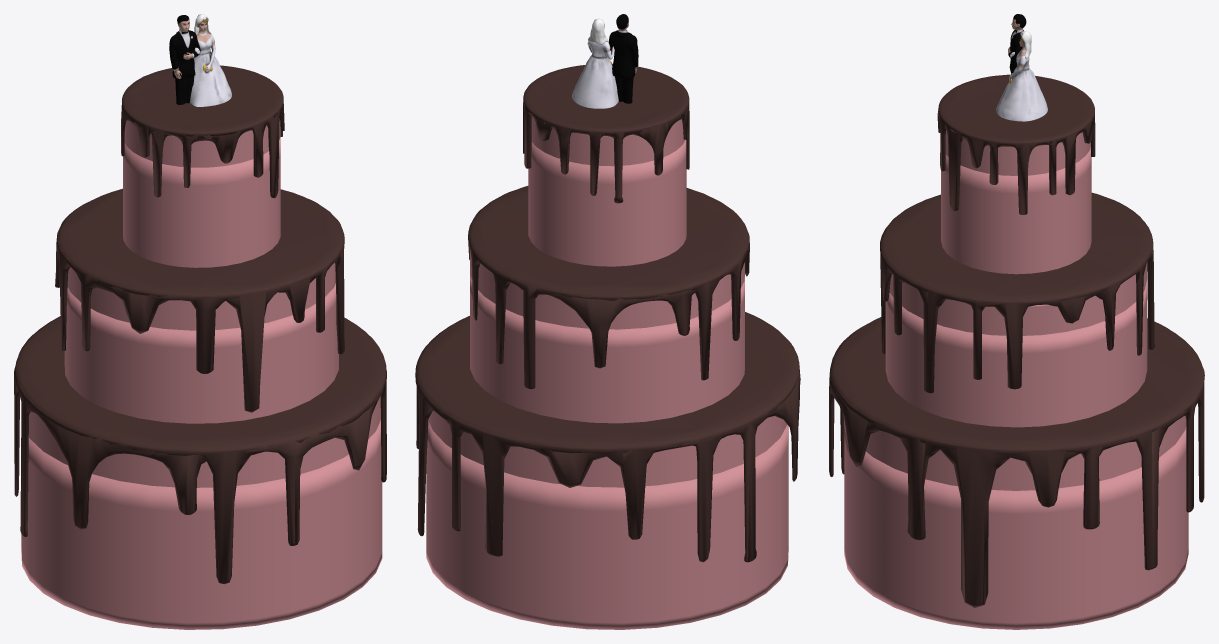
Rendered from 3-tier-blush-ganache-bridegroom.glb.
3 views of the same model, side by side, from view 1: azimuth 30°, elevation 25°; view 2: azimuth 150°, elevation 25°; view 3: azimuth 270°, elevation 25° (orthographic). The views are drawn at different scales.
Visible parts, largest first — view 1: Cylinder.022, tHE ICING.005, Cylinder.014, tHE ICING.002, Cylinder.021, tHE ICING.001, 13501_Cake_Topper_Bride_Groom_v1_L1.002; view 2: Cylinder.022, tHE ICING.005, Cylinder.014, tHE ICING.002, Cylinder.021, tHE ICING.001, 13501_Cake_Topper_Bride_Groom_v1_L1.002; view 3: Cylinder.022, tHE ICING.005, Cylinder.014, tHE ICING.002, Cylinder.021, tHE ICING.001, 13501_Cake_Topper_Bride_Groom_v1_L1.002.
Boxes of the visible parts, x1=… form: Cylinder.022: x1=21, y1=396, x2=382, y2=629; tHE ICING.005: x1=14, y1=316, x2=386, y2=584; Cylinder.014: x1=64, y1=262, x2=338, y2=423; tHE ICING.002: x1=55, y1=188, x2=344, y2=412; Cylinder.021: x1=123, y1=119, x2=280, y2=267; tHE ICING.001: x1=121, y1=65, x2=284, y2=198; 13501_Cake_Topper_Bride_Groom_v1_L1.002: x1=169, y1=14, x2=231, y2=106; Cylinder.022: x1=426, y1=411, x2=788, y2=629; tHE ICING.005: x1=415, y1=312, x2=800, y2=562; Cylinder.014: x1=470, y1=249, x2=744, y2=423; tHE ICING.002: x1=468, y1=186, x2=749, y2=389; Cylinder.021: x1=528, y1=116, x2=686, y2=266; tHE ICING.001: x1=523, y1=64, x2=689, y2=203; 13501_Cake_Topper_Bride_Groom_v1_L1.002: x1=572, y1=14, x2=638, y2=108; Cylinder.022: x1=844, y1=416, x2=1188, y2=629; tHE ICING.005: x1=829, y1=317, x2=1204, y2=607; Cylinder.014: x1=885, y1=262, x2=1147, y2=427; tHE ICING.002: x1=880, y1=192, x2=1154, y2=393; Cylinder.021: x1=941, y1=130, x2=1091, y2=274; tHE ICING.001: x1=937, y1=74, x2=1095, y2=214; 13501_Cake_Topper_Bride_Groom_v1_L1.002: x1=996, y1=14, x2=1047, y2=121.
Size of the model in its own units: 4.33 by 6.91 by 4.43.
Materials: 3 (1 with a texture image).
